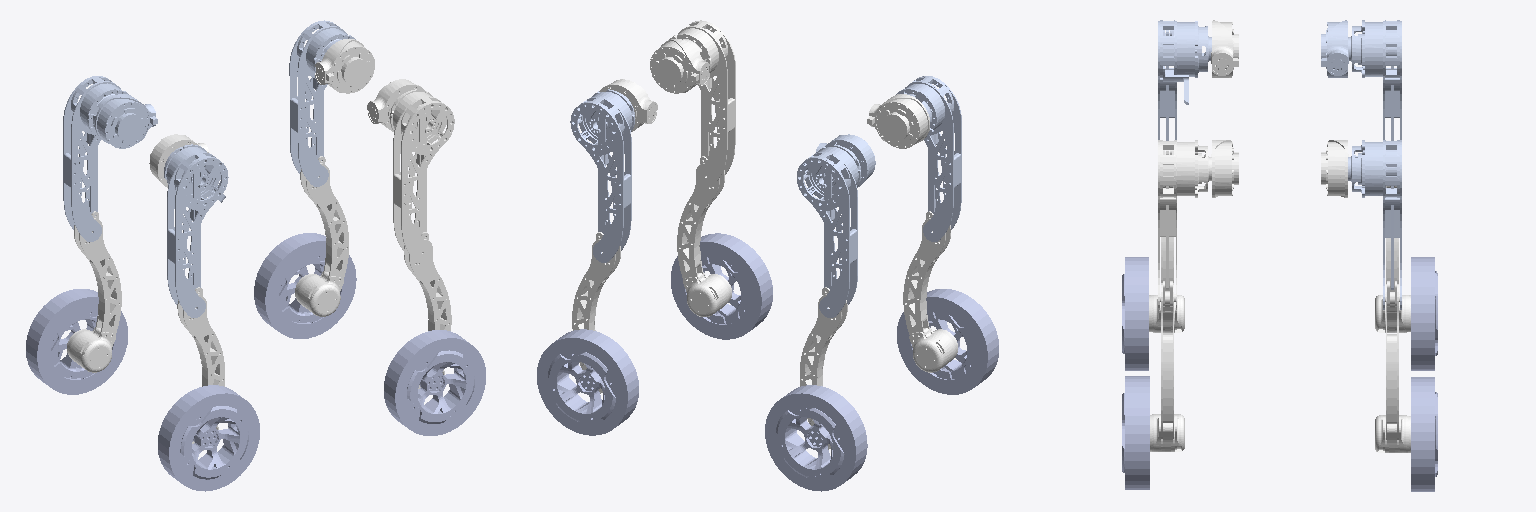
The robot description file, URDF, robot "火狗2.2.SLDASM":
<?xml version="1.0" encoding="utf-8"?>
<!-- This URDF was automatically created by SolidWorks to URDF Exporter! Originally created by Stephen Brawner (brawner@gmail.com) 
     Commit Version: 1.6.0-4-g7f85cfe  Build Version: 1.6.7995.38578
     For more information, please see http://wiki.ros.org/sw_urdf_exporter -->
<robot
  name="火狗2.2.SLDASM">
  <link
    name="base_link">
    <inertial>
      <origin
        xyz="0.0079 -0.0097 0.0600"
        rpy="0 0 0" />
      <mass
        value="6.4660" />
      <inertia
        ixx="0.0670"
        ixy="0.0013"
        ixz="0.0002"
        iyy="0.1464"
        iyz="-0.0009"
        izz="0.1959" />
    </inertial>
    <visual>
      <origin
        xyz="0 0 0"
        rpy="0 0 0" />
      <geometry>
        <mesh
          filename="package://火狗2.2.SLDASM/meshes/base_link.STL" />
      </geometry>
      <material
        name="">
        <color
          rgba="1 1 1 1" />
      </material>
    </visual>
    <collision>
      <origin
        xyz="0 0 0"
        rpy="0 0 0" />
      <geometry>
        <mesh
          filename="package://火狗2.2.SLDASM/meshes/base_link.STL" />
      </geometry>
    </collision>
  </link>
  <link
    name="RF">
    <inertial>
      <origin
        xyz="0.0589 0.0026 0.0000"
        rpy="0 0 0" />
      <mass
        value="0.9326" />
      <inertia
        ixx="0.0006"
        ixy="0.0000"
        ixz="0.0000"
        iyy="0.0011"
        iyz="0.0000"
        izz="0.0007" />
    </inertial>
    <visual>
      <origin
        xyz="0 0 0"
        rpy="0 0 0" />
      <geometry>
        <mesh
          filename="package://火狗2.2.SLDASM/meshes/RF.STL" />
      </geometry>
      <material
        name="">
        <color
          rgba="1 1 1 1" />
      </material>
    </visual>
    <collision>
      <origin
        xyz="0 0 0"
        rpy="0 0 0" />
      <geometry>
        <mesh
          filename="package://火狗2.2.SLDASM/meshes/RF.STL" />
      </geometry>
    </collision>
  </link>
  <joint
    name="RF_joint"
    type="revolute">
    <origin
      xyz="0.184 -0.1 0.075"
      rpy="0 0 0" />
    <parent
      link="base_link" />
    <child
      link="RF" />
    <axis
      xyz="1 0 0" />
    <limit
      lower="-3.1416"
      upper="3.1416"
      effort="40"
      velocity="12.5664" />
  </joint>
  <link
    name="RF1">
    <inertial>
      <origin
        xyz="-0.0042 -0.0480 -0.0165"
        rpy="0 0 0" />
      <mass
        value="1.2465" />
      <inertia
        ixx="0.0043"
        ixy="-0.0002"
        ixz="-0.0007"
        iyy="0.0046"
        iyz="-0.0006"
        izz="0.0014" />
    </inertial>
    <visual>
      <origin
        xyz="0 0 0"
        rpy="0 0 0" />
      <geometry>
        <mesh
          filename="package://火狗2.2.SLDASM/meshes/RF1.STL" />
      </geometry>
      <material
        name="">
        <color
          rgba="1 1 1 1" />
      </material>
    </visual>
    <collision>
      <origin
        xyz="0 0 0"
        rpy="0 0 0" />
      <geometry>
        <mesh
          filename="package://火狗2.2.SLDASM/meshes/RF1.STL" />
      </geometry>
    </collision>
  </link>
  <joint
    name="RF1_joint"
    type="revolute">
    <origin
      xyz="0.0611 -0.016359 9.5117E-05"
      rpy="0 0 0" />
    <parent
      link="RF" />
    <child
      link="RF1" />
    <axis
      xyz="0 -1 0" />
    <limit
      lower="-3.1416"
      upper="3.1416"
      effort="40"
      velocity="12.5664" />
  </joint>
  <link
    name="RF2">
    <inertial>
      <origin
        xyz="0.0206 0.0004 -0.1718"
        rpy="0 0 0" />
      <mass
        value="0.4492" />
      <inertia
        ixx="0.0037"
        ixy="0.0000"
        ixz="-0.0001"
        iyy="0.0039"
        iyz="0.0000"
        izz="0.0003" />
    </inertial>
    <visual>
      <origin
        xyz="0 0 0"
        rpy="0 0 0" />
      <geometry>
        <mesh
          filename="package://火狗2.2.SLDASM/meshes/RF2.STL" />
      </geometry>
      <material
        name="">
        <color
          rgba="1 1 1 1" />
      </material>
    </visual>
    <collision>
      <origin
        xyz="0 0 0"
        rpy="0 0 0" />
      <geometry>
        <mesh
          filename="package://火狗2.2.SLDASM/meshes/RF2.STL" />
      </geometry>
    </collision>
  </link>
  <joint
    name="RF2_joint"
    type="revolute">
    <origin
      xyz="-0.018426 -0.078417 -0.25543"
      rpy="0 0 0" />
    <parent
      link="RF1" />
    <child
      link="RF2" />
    <axis
      xyz="0 -1 0" />
    <limit
      lower="-3.1416"
      upper="3.1416"
      effort="40"
      velocity="12.5664" />
  </joint>
  <link
    name="RF3">
    <inertial>
      <origin
        xyz="-0.0005 -0.0487 -0.0001"
        rpy="0 0 0" />
      <mass
        value="0.6405" />
      <inertia
        ixx="0.0017"
        ixy="0.0000"
        ixz="0.0000"
        iyy="0.0032"
        iyz="0.0000"
        izz="0.0017" />
    </inertial>
    <visual>
      <origin
        xyz="0 0 0"
        rpy="0 0 0" />
      <geometry>
        <mesh
          filename="package://火狗2.2.SLDASM/meshes/RF3.STL" />
      </geometry>
      <material
        name="">
        <color
          rgba="0.79608 0.82353 0.93725 1" />
      </material>
    </visual>
    <collision>
      <origin
        xyz="0 0 0"
        rpy="0 0 0" />
      <geometry>
        <mesh
          filename="package://火狗2.2.SLDASM/meshes/RF3.STL" />
      </geometry>
    </collision>
  </link>
  <joint
    name="RF3_joint"
    type="continuous">
    <origin
      xyz="0.0049156 -0.0047548 -0.25579"
      rpy="0 0 0" />
    <parent
      link="RF2" />
    <child
      link="RF3" />
    <axis
      xyz="0 -1 0" />
    <limit
      effort="14"
      velocity="27.2271" />
  </joint>
  <link
    name="RR">
    <inertial>
      <origin
        xyz="-0.0589 0.0026 0.0000"
        rpy="0 0 0" />
      <mass
        value="0.9326" />
      <inertia
        ixx="0.0006"
        ixy="0.0000"
        ixz="0.0000"
        iyy="0.0011"
        iyz="0.0000"
        izz="0.0007" />
    </inertial>
    <visual>
      <origin
        xyz="0 0 0"
        rpy="0 0 0" />
      <geometry>
        <mesh
          filename="package://火狗2.2.SLDASM/meshes/RR.STL" />
      </geometry>
      <material
        name="">
        <color
          rgba="1 1 1 1" />
      </material>
    </visual>
    <collision>
      <origin
        xyz="0 0 0"
        rpy="0 0 0" />
      <geometry>
        <mesh
          filename="package://火狗2.2.SLDASM/meshes/RR.STL" />
      </geometry>
    </collision>
  </link>
  <joint
    name="RR_joint"
    type="revolute">
    <origin
      xyz="-0.184 -0.1 0.075"
      rpy="0 0 0" />
    <parent
      link="base_link" />
    <child
      link="RR" />
    <axis
      xyz="-1 0 0" />
    <limit
      lower="-3.1416"
      upper="3.1416"
      effort="40"
      velocity="12.5664" />
  </joint>
  <link
    name="RR1">
    <inertial>
      <origin
        xyz="-0.0005 -0.0488 -0.0187"
        rpy="0 0 0" />
      <mass
        value="1.3504" />
      <inertia
        ixx="0.0044"
        ixy="-0.0001"
        ixz="-0.0005"
        iyy="0.0049"
        iyz="-0.0007"
        izz="0.0017" />
    </inertial>
    <visual>
      <origin
        xyz="0 0 0"
        rpy="0 0 0" />
      <geometry>
        <mesh
          filename="package://火狗2.2.SLDASM/meshes/RR1.STL" />
      </geometry>
      <material
        name="">
        <color
          rgba="0.86667 0.9098 1 1" />
      </material>
    </visual>
    <collision>
      <origin
        xyz="0 0 0"
        rpy="0 0 0" />
      <geometry>
        <mesh
          filename="package://火狗2.2.SLDASM/meshes/RR1.STL" />
      </geometry>
    </collision>
  </link>
  <joint
    name="RR1_joint"
    type="revolute">
    <origin
      xyz="-0.0611 -0.01639 0"
      rpy="0 0 0" />
    <parent
      link="RR" />
    <child
      link="RR1" />
    <axis
      xyz="0 -1 0" />
    <limit
      lower="-3.1416"
      upper="3.1416"
      effort="40"
      velocity="12.5664" />
  </joint>
  <link
    name="RR2">
    <inertial>
      <origin
        xyz="0.0213 0.0004 -0.1719"
        rpy="0 0 0" />
      <mass
        value="0.4492" />
      <inertia
        ixx="0.0037"
        ixy="0.0000"
        ixz="-0.0001"
        iyy="0.0039"
        iyz="0.0000"
        izz="0.0003" />
    </inertial>
    <visual>
      <origin
        xyz="0 0 0"
        rpy="0 0 0" />
      <geometry>
        <mesh
          filename="package://火狗2.2.SLDASM/meshes/RR2.STL" />
      </geometry>
      <material
        name="">
        <color
          rgba="1 1 1 1" />
      </material>
    </visual>
    <collision>
      <origin
        xyz="0 0 0"
        rpy="0 0 0" />
      <geometry>
        <mesh
          filename="package://火狗2.2.SLDASM/meshes/RR2.STL" />
      </geometry>
    </collision>
  </link>
  <joint
    name="RR2_joint"
    type="revolute">
    <origin
      xyz="-0.019158 -0.078386 -0.25528"
      rpy="0 0 0" />
    <parent
      link="RR1" />
    <child
      link="RR2" />
    <axis
      xyz="0 -1 0" />
    <limit
      lower="-3.1416"
      upper="3.1416"
      effort="40"
      velocity="12.5664" />
  </joint>
  <link
    name="RR3">
    <inertial>
      <origin
        xyz="-0.0005 -0.0487 -0.0001"
        rpy="0 0 0" />
      <mass
        value="0.6405" />
      <inertia
        ixx="0.0017"
        ixy="0.0000"
        ixz="0.0000"
        iyy="0.0032"
        iyz="0.0000"
        izz="0.0017" />
    </inertial>
    <visual>
      <origin
        xyz="0 0 0"
        rpy="0 0 0" />
      <geometry>
        <mesh
          filename="package://火狗2.2.SLDASM/meshes/RR3.STL" />
      </geometry>
      <material
        name="">
        <color
          rgba="0.79608 0.82353 0.93725 1" />
      </material>
    </visual>
    <collision>
      <origin
        xyz="0 0 0"
        rpy="0 0 0" />
      <geometry>
        <mesh
          filename="package://火狗2.2.SLDASM/meshes/RR3.STL" />
      </geometry>
    </collision>
  </link>
  <joint
    name="RR3_joint"
    type="continuous">
    <origin
      xyz="0.0056469 -0.0047857 -0.25594"
      rpy="0 0 0" />
    <parent
      link="RR2" />
    <child
      link="RR3" />
    <axis
      xyz="0 -1 0" />
    <limit
      effort="14"
      velocity="27.2271" />
  </joint>
  <link
    name="LR">
    <inertial>
      <origin
        xyz="-0.0589 -0.0026 0.0000"
        rpy="0 0 0" />
      <mass
        value="0.9326" />
      <inertia
        ixx="0.0006"
        ixy="0.0000"
        ixz="0.0000"
        iyy="0.0011"
        iyz="0.0000"
        izz="0.0007" />
    </inertial>
    <visual>
      <origin
        xyz="-0.0611 0.01639 0"
        rpy="0 0 0" />
      <geometry>
        <mesh
          filename="package://火狗2.2.SLDASM/meshes/LR.STL" />
      </geometry>
      <material
        name="">
        <color
          rgba="0.86667 0.9098 1 1" />
      </material>
    </visual>
    <collision>
      <origin
        xyz="-0.0611 0.01639 0"
        rpy="0 0 0" />
      <geometry>
        <mesh
          filename="package://火狗2.2.SLDASM/meshes/LR.STL" />
      </geometry>
    </collision>
  </link>
  <joint
    name="LR_joint"
    type="revolute">
    <origin
      xyz="-0.184 0.1 0.075"
      rpy="0 0 0" />
    <parent
      link="base_link" />
    <child
      link="LR" />
    <axis
      xyz="-1 0 0" />
    <limit
      lower="-3.1416"
      upper="3.1416"
      effort="40"
      velocity="12.5664" />
  </joint>
  <link
    name="LR1">
    <inertial>
      <origin
        xyz="-0.0044 0.0478 -0.0165"
        rpy="0 0 0" />
      <mass
        value="1.2369" />
      <inertia
        ixx="0.0043"
        ixy="0.0002"
        ixz="-0.0007"
        iyy="0.0046"
        iyz="0.0006"
        izz="0.0014" />
    </inertial>
    <visual>
      <origin
        xyz="0 0 0"
        rpy="0 0 0" />
      <geometry>
        <mesh
          filename="package://火狗2.2.SLDASM/meshes/LR1.STL" />
      </geometry>
      <material
        name="">
        <color
          rgba="0.86667 0.9098 1 1" />
      </material>
    </visual>
    <collision>
      <origin
        xyz="0 0 0"
        rpy="0 0 0" />
      <geometry>
        <mesh
          filename="package://火狗2.2.SLDASM/meshes/LR1.STL" />
      </geometry>
    </collision>
  </link>
  <joint
    name="LR1_joint"
    type="revolute">
    <origin
      xyz="-0.0611 0.01639 0"
      rpy="0 0 0" />
    <parent
      link="LR" />
    <child
      link="LR1" />
    <axis
      xyz="0 1 0" />
    <limit
      lower="-3.1416"
      upper="3.1416"
      effort="40"
      velocity="12.5664" />
  </joint>
  <link
    name="LR2">
    <inertial>
      <origin
        xyz="0.0213 -0.0004 -0.1719"
        rpy="0 0 0" />
      <mass
        value="0.4492" />
      <inertia
        ixx="0.0037"
        ixy="0.0000"
        ixz="-0.0001"
        iyy="0.0039"
        iyz="0.0000"
        izz="0.0003" />
    </inertial>
    <visual>
      <origin
        xyz="0 0 0"
        rpy="0 0 0" />
      <geometry>
        <mesh
          filename="package://火狗2.2.SLDASM/meshes/LR2.STL" />
      </geometry>
      <material
        name="">
        <color
          rgba="1 1 1 1" />
      </material>
    </visual>
    <collision>
      <origin
        xyz="0 0 0"
        rpy="0 0 0" />
      <geometry>
        <mesh
          filename="package://火狗2.2.SLDASM/meshes/LR2.STL" />
      </geometry>
    </collision>
  </link>
  <joint
    name="LR2_joint"
    type="revolute">
    <origin
      xyz="-0.019158 0.078386 -0.25528"
      rpy="0 0 0" />
    <parent
      link="LR1" />
    <child
      link="LR2" />
    <axis
      xyz="0 1 0" />
    <limit
      lower="-3.1416"
      upper="3.1416"
      effort="40"
      velocity="12.5664" />
  </joint>
  <link
    name="LR3">
    <inertial>
      <origin
        xyz="-0.0001 0.0487 -0.0005"
        rpy="0 0 0" />
      <mass
        value="0.6405" />
      <inertia
        ixx="0.0017"
        ixy="0.0000"
        ixz="0.0000"
        iyy="0.0032"
        iyz="0.0000"
        izz="0.0017" />
    </inertial>
    <visual>
      <origin
        xyz="0 0 0"
        rpy="0 0 0" />
      <geometry>
        <mesh
          filename="package://火狗2.2.SLDASM/meshes/LR3.STL" />
      </geometry>
      <material
        name="">
        <color
          rgba="0.79608 0.82353 0.93725 1" />
      </material>
    </visual>
    <collision>
      <origin
        xyz="0 0 0"
        rpy="0 0 0" />
      <geometry>
        <mesh
          filename="package://火狗2.2.SLDASM/meshes/LR3.STL" />
      </geometry>
    </collision>
  </link>
  <joint
    name="LR3_joint"
    type="continuous">
    <origin
      xyz="0.0056469 0.0047857 -0.25594"
      rpy="0 0 0" />
    <parent
      link="LR2" />
    <child
      link="LR3" />
    <axis
      xyz="0 1 0" />
    <limit
      effort="14"
      velocity="27.2271" />
  </joint>
  <link
    name="LF">
    <inertial>
      <origin
        xyz="0.0589 -0.0026 0.0000"
        rpy="0 0 0" />
      <mass
        value="0.9326" />
      <inertia
        ixx="0.0006"
        ixy="0.0000"
        ixz="0.0000"
        iyy="0.0011"
        iyz="0.0000"
        izz="0.0007" />
    </inertial>
    <visual>
      <origin
        xyz="0 0 0"
        rpy="0 0 0" />
      <geometry>
        <mesh
          filename="package://火狗2.2.SLDASM/meshes/LF.STL" />
      </geometry>
      <material
        name="">
        <color
          rgba="1 1 1 1" />
      </material>
    </visual>
    <collision>
      <origin
        xyz="0 0 0"
        rpy="0 0 0" />
      <geometry>
        <mesh
          filename="package://火狗2.2.SLDASM/meshes/LF.STL" />
      </geometry>
    </collision>
  </link>
  <joint
    name="LF_joint"
    type="revolute">
    <origin
      xyz="0.184 0.1 0.075"
      rpy="0 0 0" />
    <parent
      link="base_link" />
    <child
      link="LF" />
    <axis
      xyz="1 0 0" />
    <limit
      lower="-3.1416"
      upper="3.1416"
      effort="40"
      velocity="12.5664" />
  </joint>
  <link
    name="LF1">
    <inertial>
      <origin
        xyz="-0.0043 0.0478 -0.0165"
        rpy="0 0 0" />
      <mass
        value="1.2369" />
      <inertia
        ixx="0.0043"
        ixy="0.0002"
        ixz="-0.0007"
        iyy="0.0046"
        iyz="0.0006"
        izz="0.0014" />
    </inertial>
    <visual>
      <origin
        xyz="0 0 0"
        rpy="0 0 0" />
      <geometry>
        <mesh
          filename="package://火狗2.2.SLDASM/meshes/LF1.STL" />
      </geometry>
      <material
        name="">
        <color
          rgba="0.86667 0.9098 1 1" />
      </material>
    </visual>
    <collision>
      <origin
        xyz="0 0 0"
        rpy="0 0 0" />
      <geometry>
        <mesh
          filename="package://火狗2.2.SLDASM/meshes/LF1.STL" />
      </geometry>
    </collision>
  </link>
  <joint
    name="LF1_joint"
    type="revolute">
    <origin
      xyz="0.0611 0.01639 0"
      rpy="0 0 0" />
    <parent
      link="LF" />
    <child
      link="LF1" />
    <axis
      xyz="0 1 0" />
    <limit
      lower="-3.1416"
      upper="3.1416"
      effort="40"
      velocity="12.5664" />
  </joint>
  <link
    name="LF2">
    <inertial>
      <origin
        xyz="0.0238 -0.0004 -0.1716"
        rpy="0 0 0" />
      <mass
        value="0.4492" />
      <inertia
        ixx="0.0037"
        ixy="0.0000"
        ixz="-0.0001"
        iyy="0.0039"
        iyz="0.0000"
        izz="0.0003" />
    </inertial>
    <visual>
      <origin
        xyz="0 0 0"
        rpy="0 0 0" />
      <geometry>
        <mesh
          filename="package://火狗2.2.SLDASM/meshes/LF2.STL" />
      </geometry>
      <material
        name="">
        <color
          rgba="1 1 1 1" />
      </material>
    </visual>
    <collision>
      <origin
        xyz="0 0 0"
        rpy="0 0 0" />
      <geometry>
        <mesh
          filename="package://火狗2.2.SLDASM/meshes/LF2.STL" />
      </geometry>
    </collision>
  </link>
  <joint
    name="LF2_joint"
    type="revolute">
    <origin
      xyz="-0.018426 0.078386 -0.25534"
      rpy="0 0 0" />
    <parent
      link="LF1" />
    <child
      link="LF2" />
    <axis
      xyz="0 1 0" />
    <limit
      lower="-3.1416"
      upper="3.1416"
      effort="40"
      velocity="12.5664" />
  </joint>
  <link
    name="LF3">
    <inertial>
      <origin
        xyz="-0.0001 0.0487 -0.0005"
        rpy="0 0 0" />
      <mass
        value="0.6405" />
      <inertia
        ixx="0.0017"
        ixy="0.0000"
        ixz="0.0000"
        iyy="0.0032"
        iyz="0.0000"
        izz="0.0017" />
    </inertial>
    <visual>
      <origin
        xyz="0 0 0"
        rpy="0 0 0" />
      <geometry>
        <mesh
          filename="package://火狗2.2.SLDASM/meshes/LF3.STL" />
      </geometry>
      <material
        name="">
        <color
          rgba="0.79608 0.82353 0.93725 1" />
      </material>
    </visual>
    <collision>
      <origin
        xyz="0 0 0"
        rpy="0 0 0" />
      <geometry>
        <mesh
          filename="package://火狗2.2.SLDASM/meshes/LF3.STL" />
      </geometry>
    </collision>
  </link>
  <joint
    name="LF3_joint"
    type="continuous">
    <origin
      xyz="0.0093044 0.0047857 -0.25583"
      rpy="0 0 0" />
    <parent
      link="LF2" />
    <child
      link="LF3" />
    <axis
      xyz="0 1 0" />
    <limit
      effort="14"
      velocity="27.2271" />
  </joint>
</robot>

--- Facts derived from the render (not from the file) ---
Views: 3 orthographic renders of the robot side by side, from view 1: azimuth 30°, elevation 25°; view 2: azimuth 150°, elevation 25°; view 3: azimuth 270°, elevation 25°.
Robot: 火狗2.2.SLDASM — 17 links, 16 joints (12 revolute, 4 continuous); root link base_link; default pose: all joints at 0.
Links seen in each view (by area): view 1: RR3, RF3, RR1, RF1, LR3, LF3, LR1, LF1, LR2, LF2, LR, LF (+4 smaller); view 2: LR3, LF3, LR1, LF1, RF3, RR3, RR1, RF1, RR2, RF2, RR, RF (+4 smaller); view 3: LF1, RF1, RR1, LR1, RF3, LF3, LR3, RR3, LF2, RF2, RR2, LR2 (+4 smaller).
Boxes of the visible links, x1=… form: RR3: x1=158, y1=385, x2=259, y2=491; RF3: x1=384, y1=330, x2=485, y2=435; RR1: x1=164, y1=144, x2=228, y2=317; RF1: x1=390, y1=89, x2=454, y2=262; LR3: x1=26, y1=289, x2=127, y2=394; LF3: x1=254, y1=233, x2=356, y2=338; LR1: x1=63, y1=76, x2=128, y2=241; LF1: x1=289, y1=20, x2=355, y2=186; LR2: x1=67, y1=211, x2=121, y2=372; LF2: x1=295, y1=156, x2=348, y2=316; LR: x1=95, y1=94, x2=157, y2=148; LF: x1=315, y1=39, x2=374, y2=93; LR3: x1=765, y1=385, x2=867, y2=491; LF3: x1=537, y1=329, x2=638, y2=435; LR1: x1=797, y1=145, x2=860, y2=317; LF1: x1=570, y1=89, x2=634, y2=262; RF3: x1=671, y1=233, x2=772, y2=339; RR3: x1=897, y1=289, x2=998, y2=394; RR1: x1=896, y1=76, x2=961, y2=241; RF1: x1=669, y1=20, x2=735, y2=186; RR2: x1=903, y1=211, x2=957, y2=372; RF2: x1=677, y1=156, x2=731, y2=316; RR: x1=867, y1=94, x2=929, y2=148; RF: x1=650, y1=39, x2=709, y2=93; LF1: x1=1348, y1=140, x2=1401, y2=309; RF1: x1=1158, y1=140, x2=1211, y2=309; RR1: x1=1158, y1=20, x2=1211, y2=140; LR1: x1=1348, y1=20, x2=1401, y2=140; RF3: x1=1122, y1=376, x2=1149, y2=489; LF3: x1=1411, y1=377, x2=1437, y2=491; LR3: x1=1411, y1=257, x2=1437, y2=370; RR3: x1=1122, y1=257, x2=1148, y2=370; LF2: x1=1375, y1=281, x2=1410, y2=452; RF2: x1=1150, y1=281, x2=1184, y2=451; RR2: x1=1149, y1=186, x2=1184, y2=332; LR2: x1=1375, y1=186, x2=1410, y2=332.
Size in the robot's own frame: 0.6925 by 0.5479 by 0.6602 metres.
16 mesh visuals loaded from 17 distinct referenced files (16 binary STL); not drawn: 1 (reference not matched to a file when rendering).
